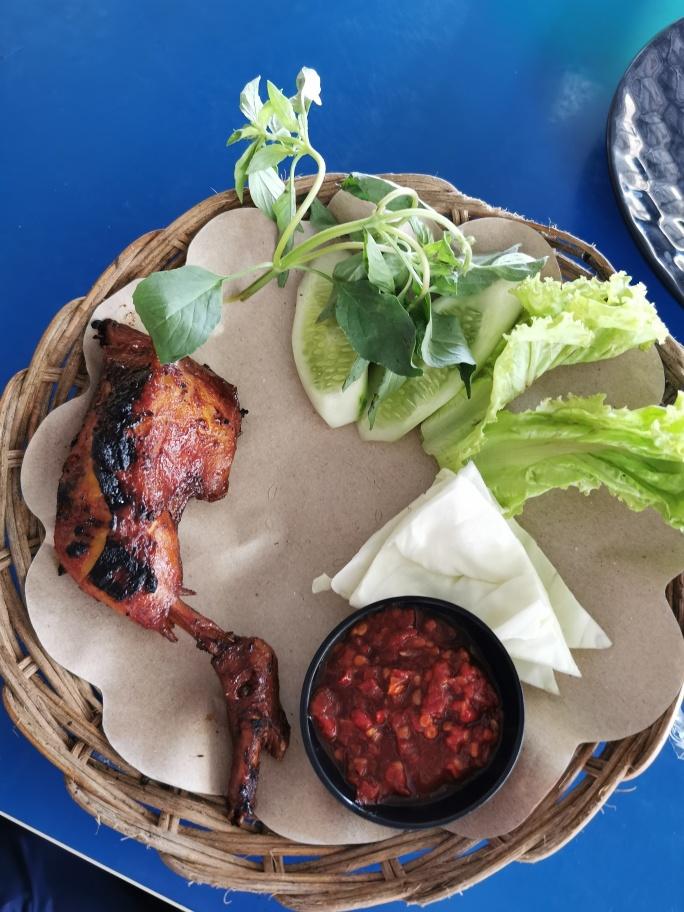ayam bakar: (49, 311, 297, 839)
